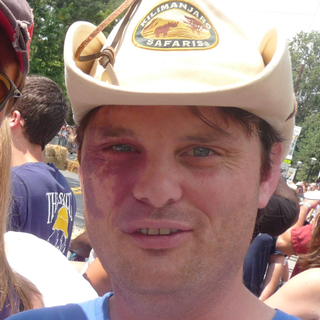eye: (179, 140, 228, 164), (99, 139, 143, 158)
